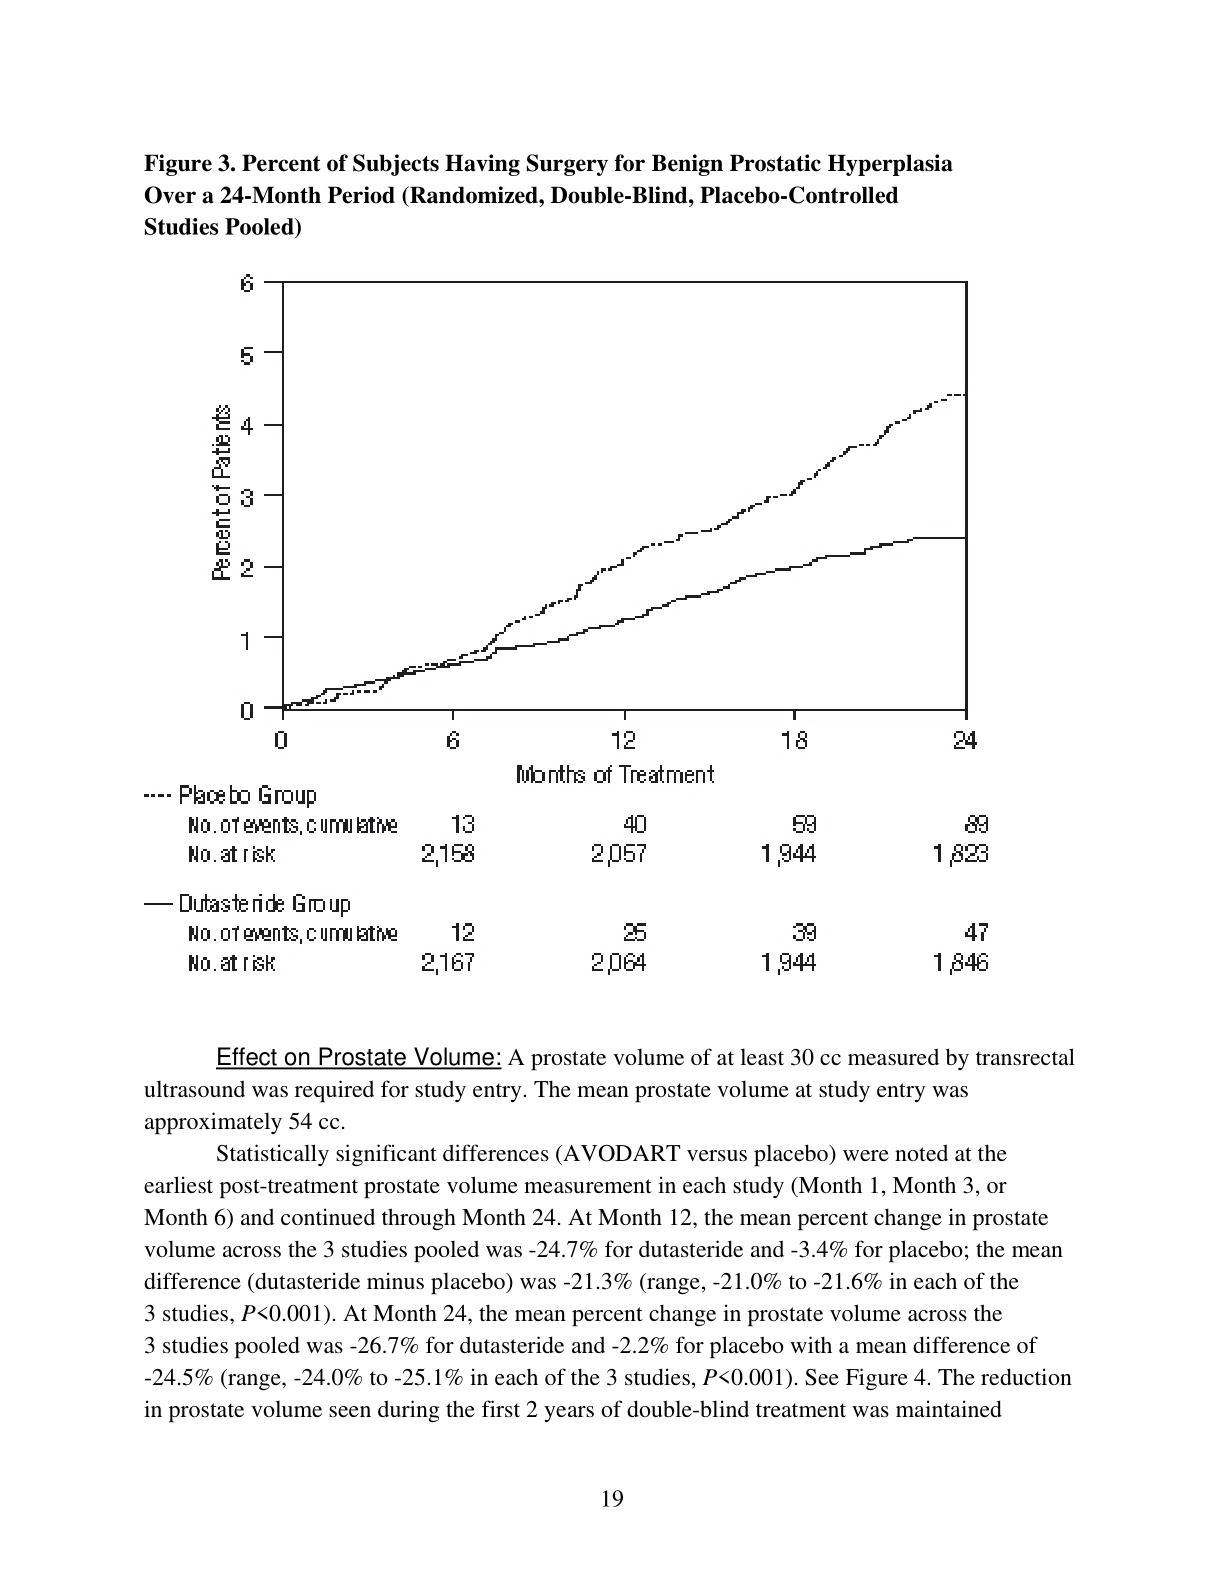nolines: (141, 786, 995, 978)
